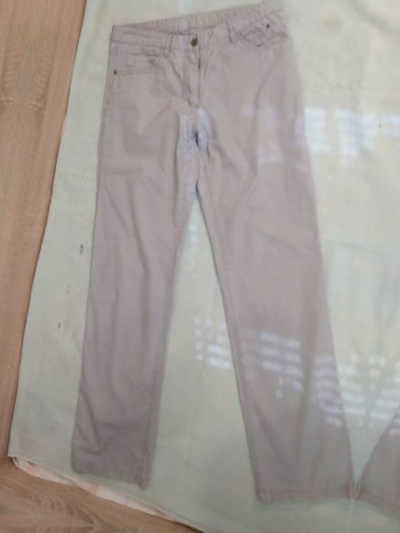Pants: (13, 0, 400, 533), (363, 27, 400, 533)
